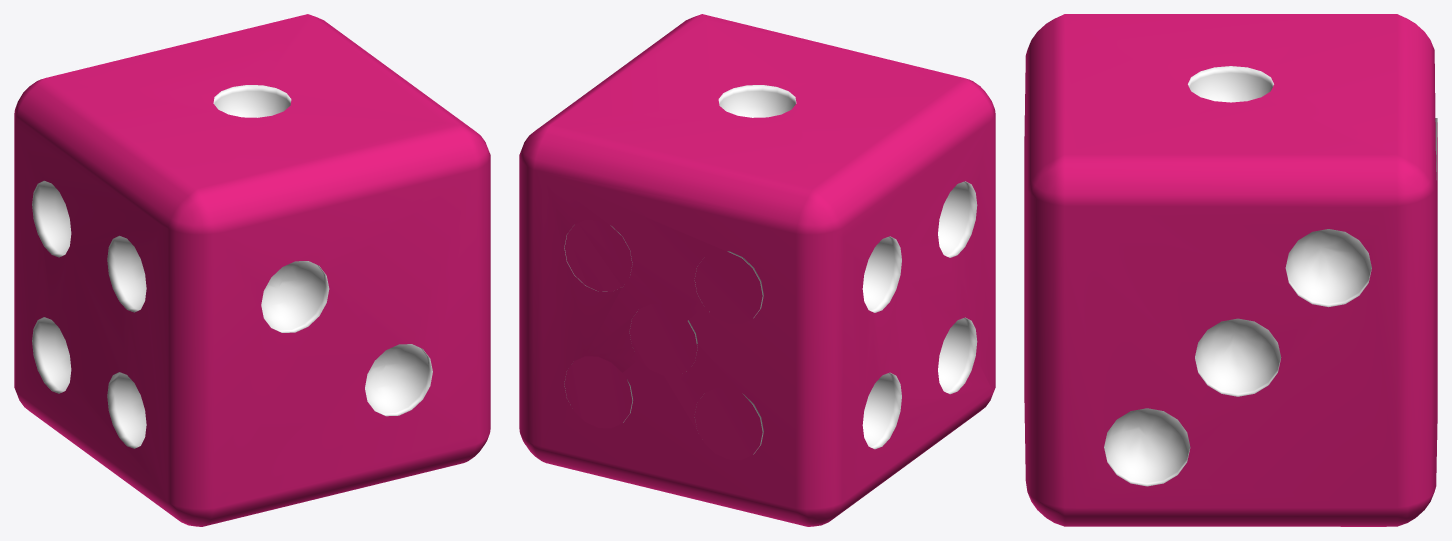
The model's file is M_VFX_Dice.fbx.
The picture shows the model from 3 angles, left to right: view 1: azimuth 30°, elevation 25°; view 2: azimuth 150°, elevation 25°; view 3: azimuth 270°, elevation 25°; orthographic projection. The views are drawn at different scales.
Visible parts, largest first — view 1: Dice; view 2: Dice; view 3: Dice.
Boxes of the visible parts, bbox=[...] form: Dice: bbox=[14, 14, 490, 526]; Dice: bbox=[519, 14, 995, 526]; Dice: bbox=[1024, 14, 1437, 526].
Bounding box in the file's own units: 200 × 200 × 200.
